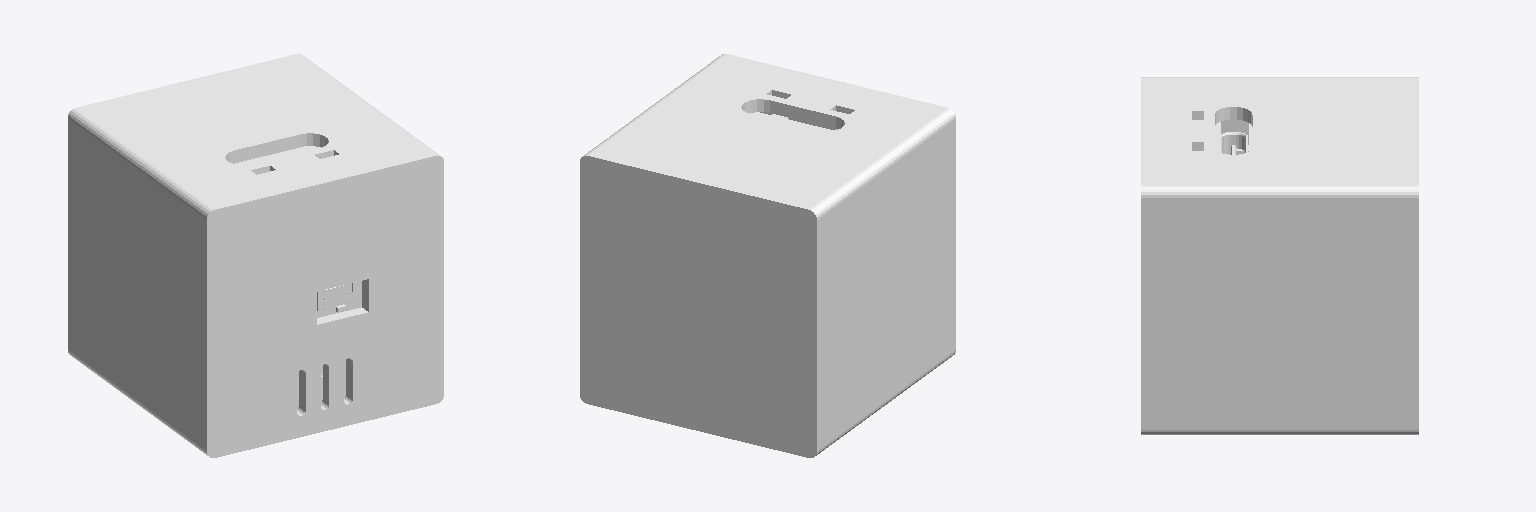
File: casing.obj
3 views of the same model, side by side, from view 1: azimuth 30°, elevation 25°; view 2: azimuth 150°, elevation 25°; view 3: azimuth 270°, elevation 25° (orthographic).
Parts seen in each view (by area): view 1: Body007, Body001, Body006, Feature001; view 2: Body006, Body001, Body007; view 3: Body001, Body007, Body006, Feature001, Feature.
Boxes of the visible parts, x1,y1,x2,y2 form: Body007: [200, 151, 443, 457]; Body001: [72, 59, 432, 450]; Body006: [68, 54, 307, 357]; Feature001: [235, 146, 361, 408]; Body006: [580, 151, 823, 457]; Body001: [588, 59, 948, 453]; Body007: [716, 54, 955, 358]; Body001: [1154, 77, 1409, 434]; Body007: [1141, 77, 1153, 434]; Body006: [1406, 77, 1418, 434]; Feature001: [1215, 122, 1252, 154]; Feature: [1289, 96, 1304, 173].
Size of the model in its own units: 30 by 30 by 30.5.